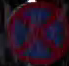No waiting: (4, 2, 67, 65)
